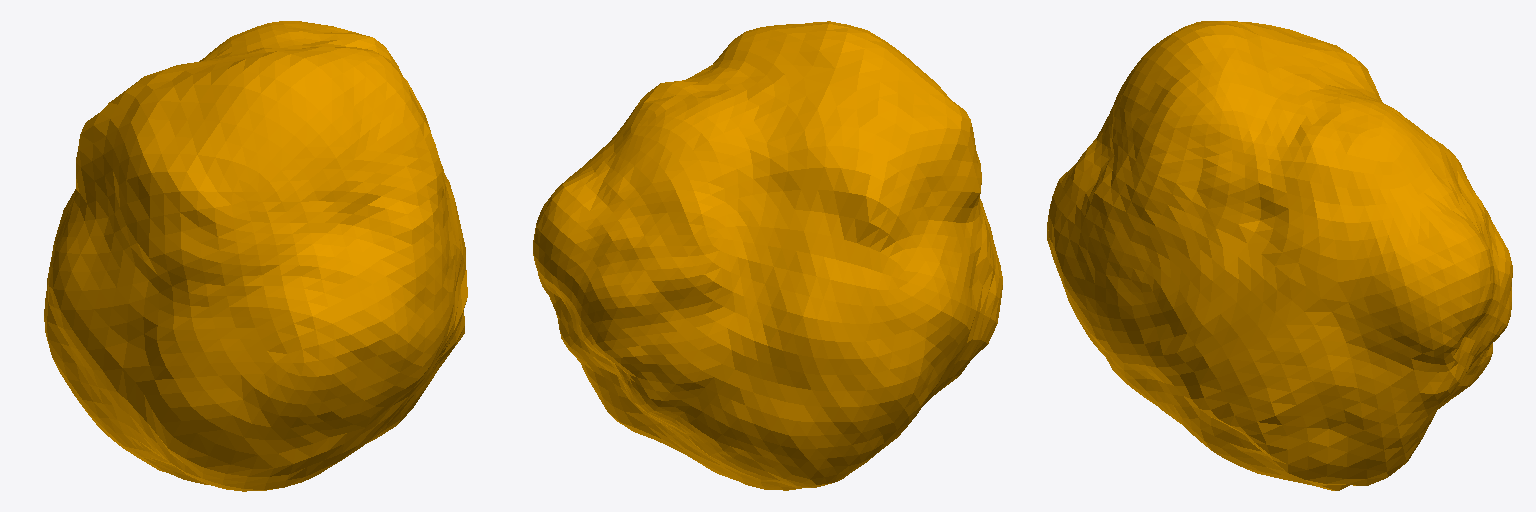
URDF robot description (rock):
<?xml version="1.0" ?>
<robot name="rock">
  <link name="rock">
    <inertial>
      <mass value="0.307"/>
      <origin rpy="0 0 0" xyz="0 0 0"/>
      <inertia ixx="0.000307" ixy="0" ixz="0" iyy="0.000307" iyz="0" izz="0.000307"/>
    </inertial>
    <collision name="rock_collision">
      <origin rpy="0 0 0" xyz="0 0 0"/>
      <geometry>
        <mesh filename="package://rocks/visual/160.dae" scale="1 1 1"/>
      </geometry>
    </collision>
    <visual name="rock_visual">
      <origin rpy="0 0 0" xyz="0 0 0"/>
      <geometry>
        <mesh filename="package://rocks/visual/160.dae" scale="1 1 1"/>
      </geometry>
    </visual>
  </link>
</robot>

--- Facts derived from the render (not from the file) ---
Views: 3 orthographic renders of the robot side by side, from view 1: azimuth 30°, elevation 25°; view 2: azimuth 150°, elevation 25°; view 3: azimuth 270°, elevation 25°.
Robot: rock — 1 links, 0 joints (none); root link rock; default pose: all joints at 0.
Visible links, largest first — view 1: rock; view 2: rock; view 3: rock.
Link boxes in pixels (x1,y1,x2,y2): rock: (44,21,467,491); rock: (533,21,1002,490); rock: (1047,21,1512,490).
Size in the robot's own frame: 0.0789 by 0.0864 by 0.0892 metres.
Meshes: 1 distinct files referenced, 1 mesh visuals loaded (1 Collada DAE).